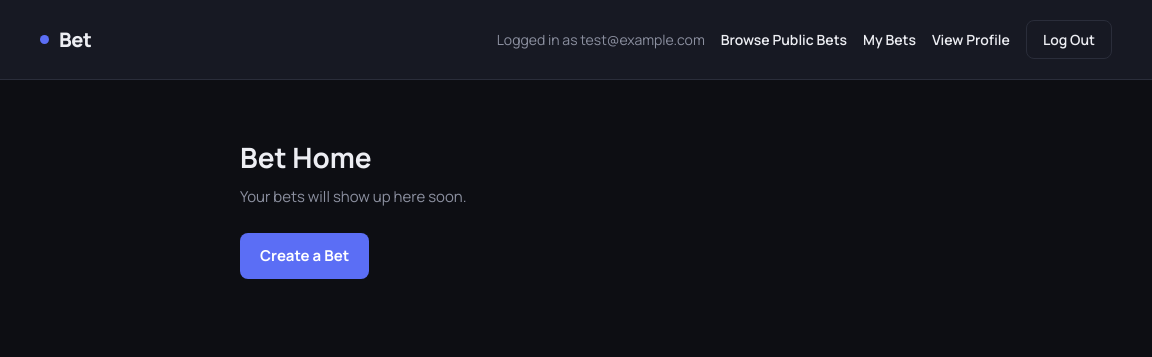
Scenario: HomePage logout › clears a previous error on a subsequent logout attempt
Click the button "Log Out": (1069, 40) 1026,20 -> 1112,59
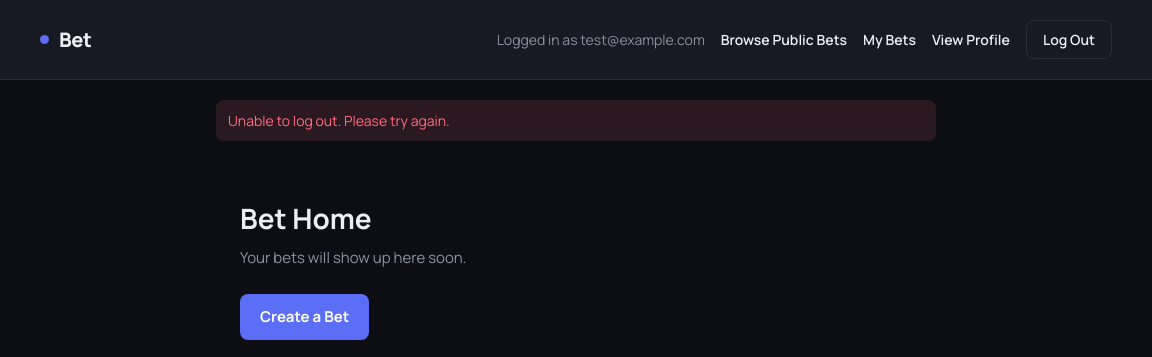
Result: the message "Unable to log out. Please try again." is shown at 216,100 -> 936,141
Click the button "Log Out": (1069, 40) 1026,20 -> 1112,59
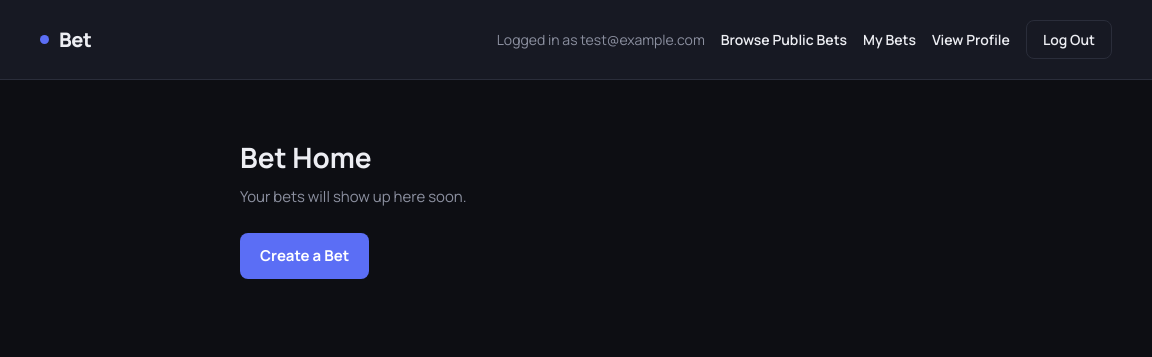
Result: the message "Unable to log out. Please try again." is gone
